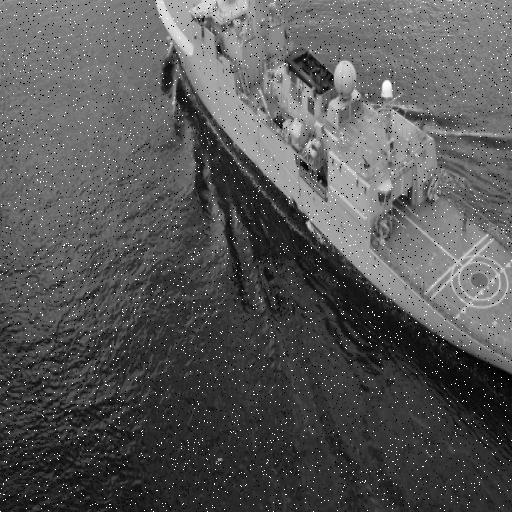Fragata: (150, 1, 512, 398)
